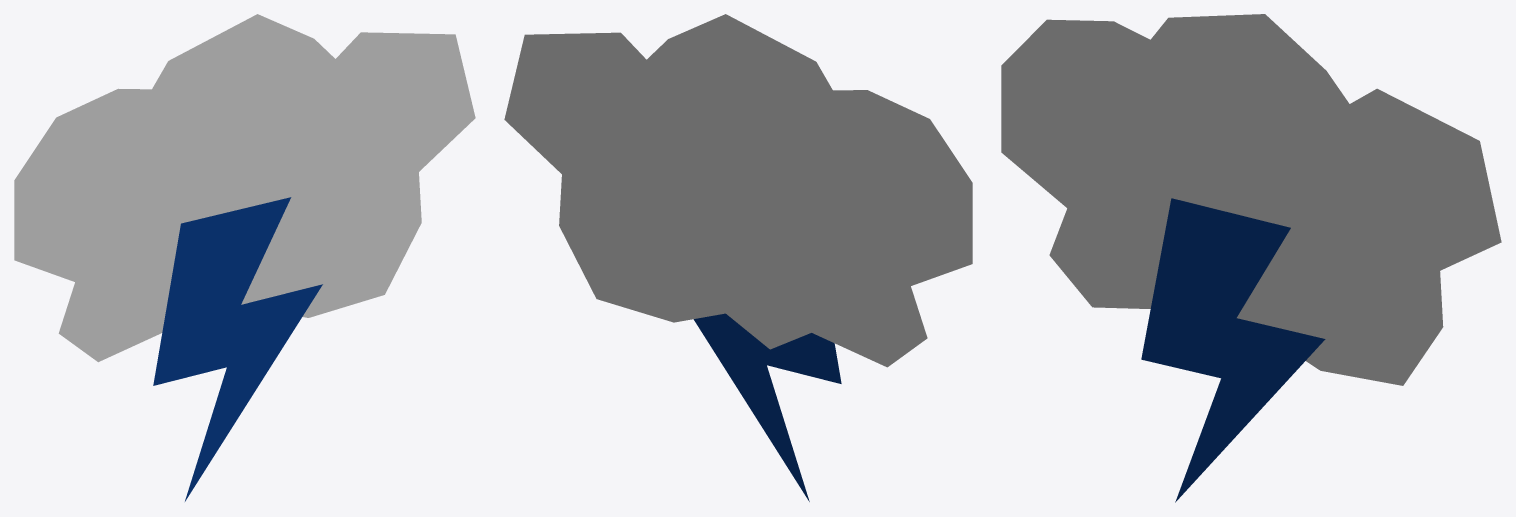
Rendered from vfx_emo_angry.FBX.
3 views of the same model, side by side, from view 1: azimuth 30°, elevation 25°; view 2: azimuth 150°, elevation 25°; view 3: azimuth 330°, elevation 25° (orthographic). The views are drawn at different scales.
Visible parts, largest first — view 1: vfx_emo_angry, vfx_emo_lighting; view 2: vfx_emo_angry, vfx_emo_lighting; view 3: vfx_emo_angry, vfx_emo_lighting.
Part boxes in pixels (x1,y1,x2,y2): vfx_emo_angry: [14, 14, 475, 362]; vfx_emo_lighting: [153, 197, 322, 501]; vfx_emo_angry: [504, 14, 972, 367]; vfx_emo_lighting: [693, 313, 841, 501]; vfx_emo_angry: [1001, 14, 1501, 385]; vfx_emo_lighting: [1141, 198, 1325, 502].
Size of the model in its own units: 832 by 804 by 15.4.
